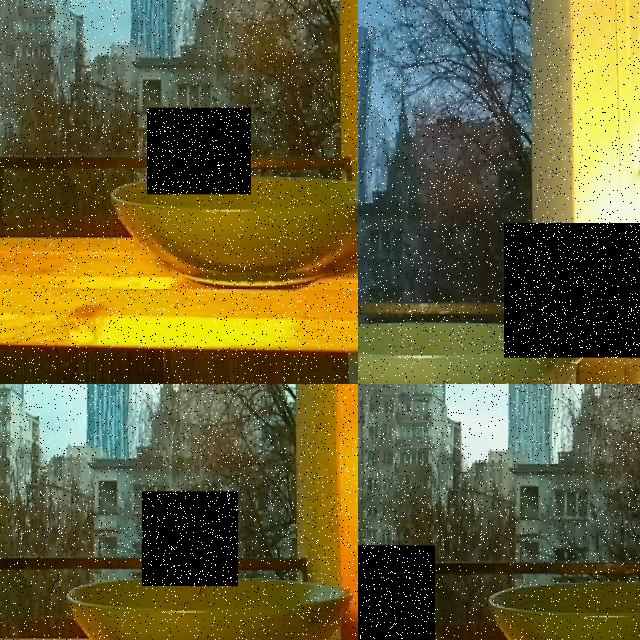Bogatka: (504, 223, 640, 357), (142, 491, 238, 586)
Modraszka: (147, 108, 251, 194), (358, 545, 435, 640)
